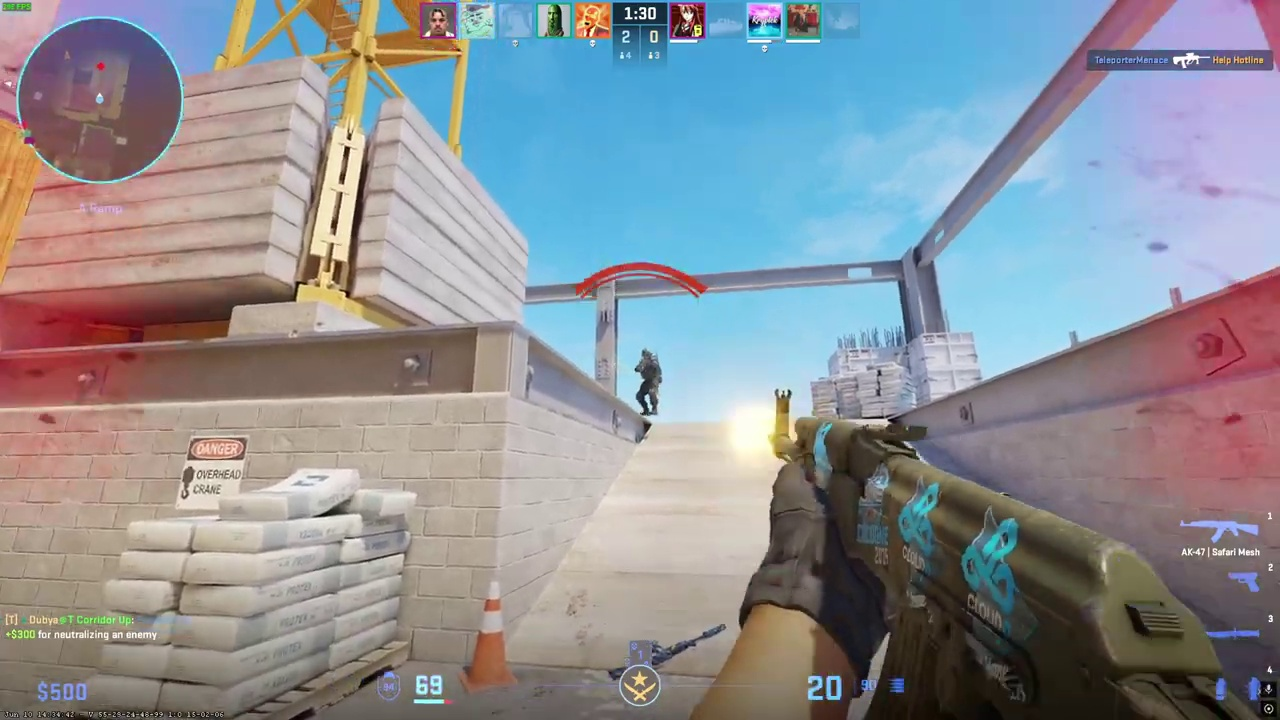CT: (634, 349, 662, 416)
